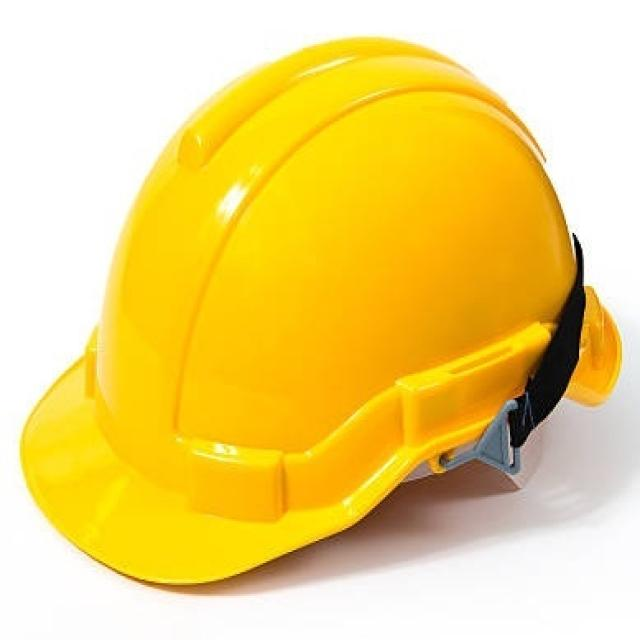helmet_yellow: (3, 3, 637, 637)
